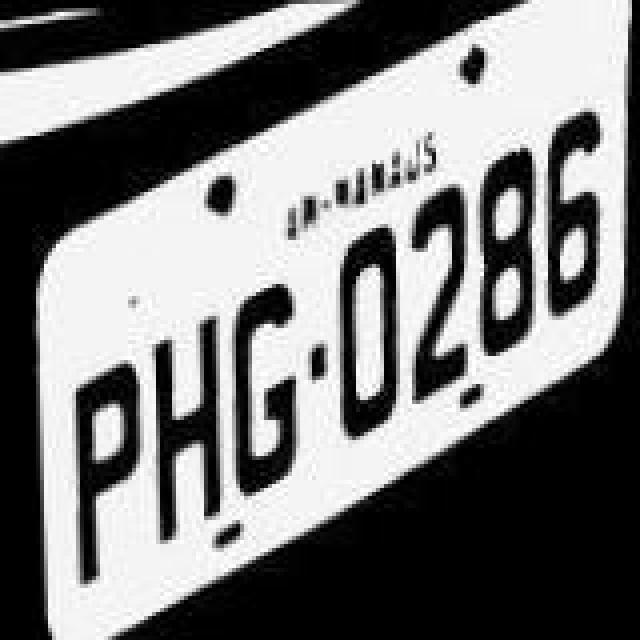2: (404, 182, 476, 402)
6: (536, 108, 608, 324)
8: (464, 142, 548, 358)
G: (224, 276, 308, 504)
H: (146, 306, 230, 542)
O: (328, 224, 408, 444)
P: (68, 358, 152, 586)
